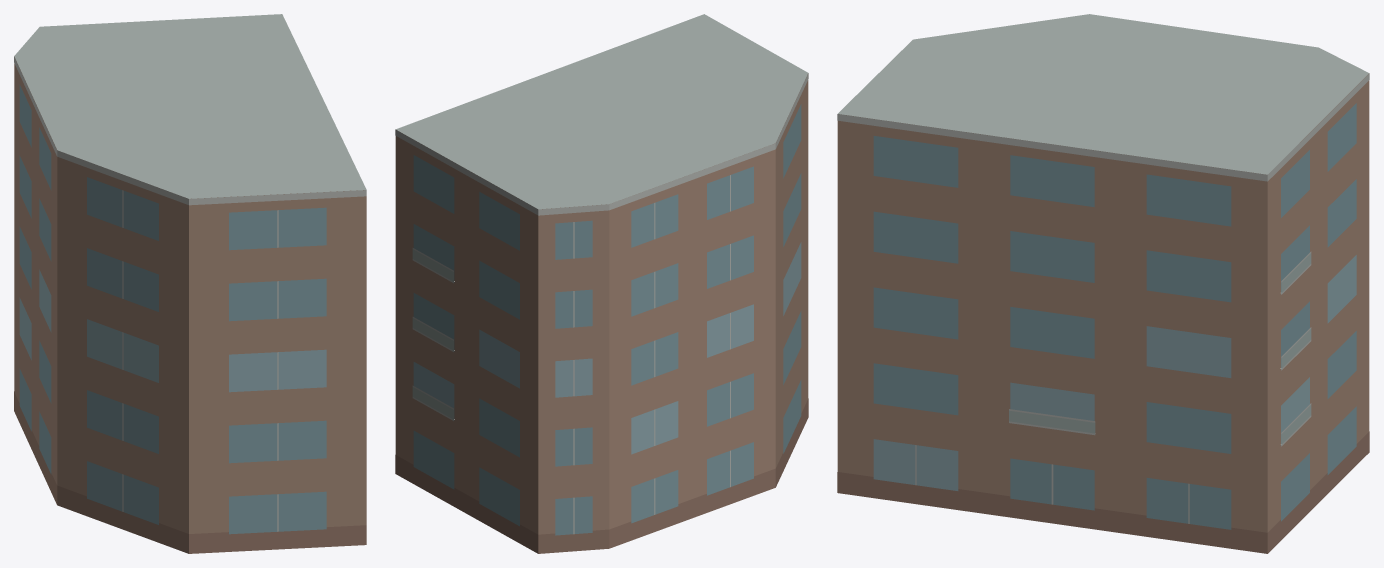
File: survey-upis-32885268.glb
3 renders of one model, left to right at view 1: azimuth 30°, elevation 25°; view 2: azimuth 150°, elevation 25°; view 3: azimuth 270°, elevation 25°, orthographic. The views are drawn at different scales.
Visible parts, largest first — view 1: survey-upis-32885268.tmp; view 2: survey-upis-32885268.tmp; view 3: survey-upis-32885268.tmp.
Boxes of the visible parts, x1,y1,x2,y2 form: survey-upis-32885268.tmp: (14, 14, 366, 553); survey-upis-32885268.tmp: (395, 14, 808, 553); survey-upis-32885268.tmp: (837, 14, 1369, 553).
Size of the model in its own units: 12.28 by 13.5 by 17.18.
